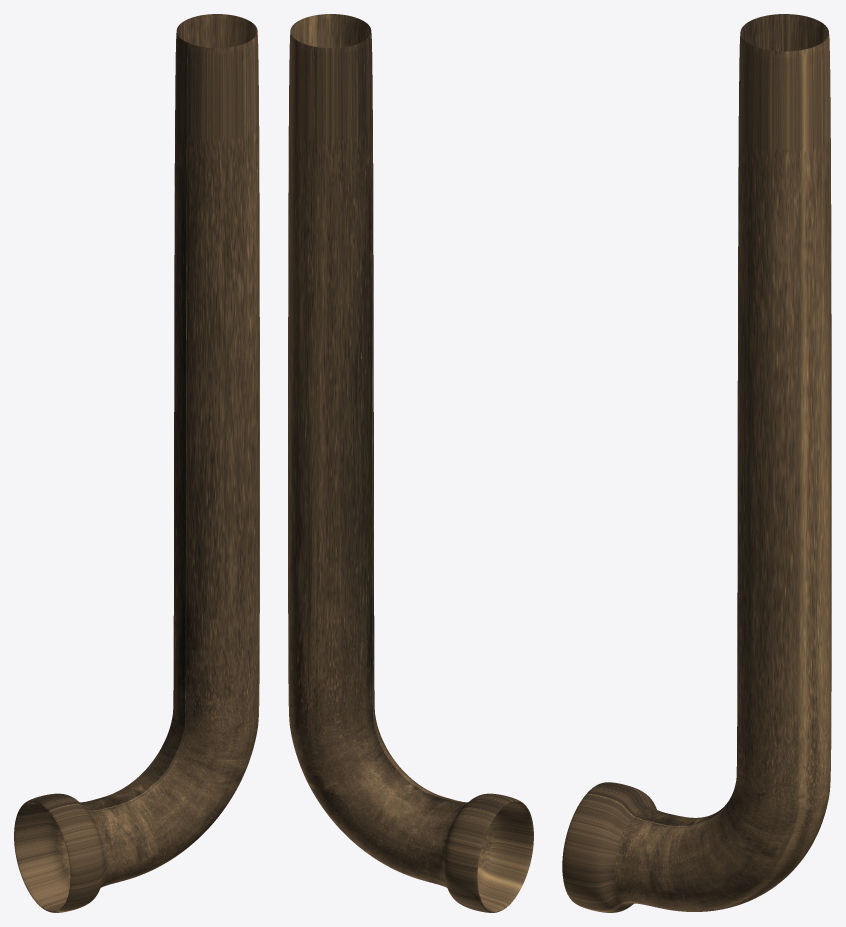
The model's file is boss chute.glb.
3 views of the same model, side by side, from view 1: azimuth 30°, elevation 25°; view 2: azimuth 150°, elevation 25°; view 3: azimuth 330°, elevation 25° (orthographic). The views are drawn at different scales.
Visible parts, largest first — view 1: Cube; view 2: Cube; view 3: Cube.
Boxes of the visible parts, x1,y1,x2,y2 form: Cube: (14,14,259,912); Cube: (288,14,533,912); Cube: (562,14,831,912).
Bounding box in the file's own units: 1.25 × 4.7 × 0.6034.
1 material, 1 textured.
